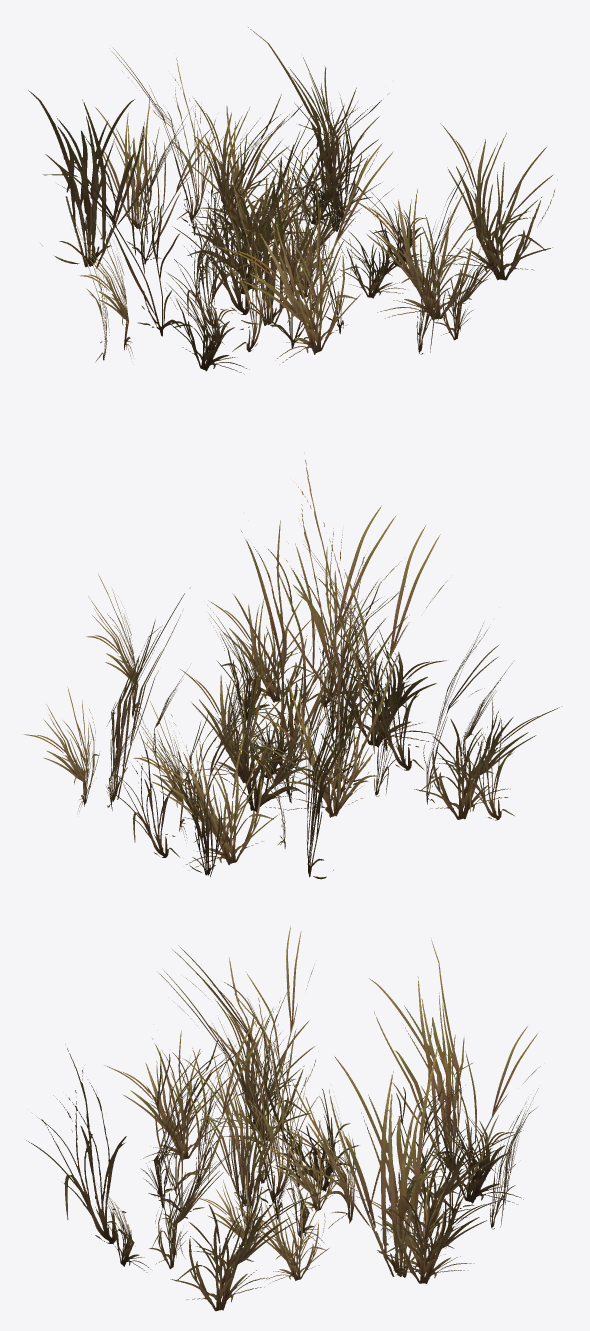
File: runtime-grass-patch-1.glb
The picture shows the model from 3 angles, top to bottom: view 1: azimuth 30°, elevation 25°; view 2: azimuth 150°, elevation 25°; view 3: azimuth 270°, elevation 25°; orthographic projection. The views are drawn at different scales.
Parts seen in each view (by area): view 1: grasspatch1; view 2: grasspatch1; view 3: grasspatch1.
Part boxes in pixels (<box>): grasspatch1: <box>28,27,557,374</box>; grasspatch1: <box>24,453,561,879</box>; grasspatch1: <box>26,926,540,1311</box>.
Bounding box in the file's own units: 236 × 126 × 239.
1 material, 1 textured.
